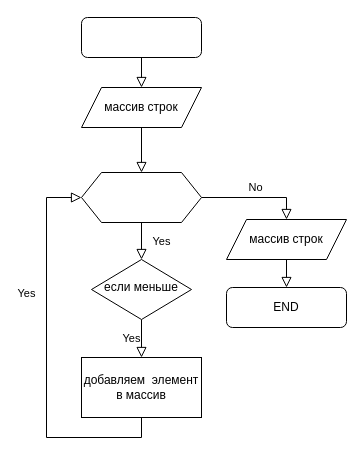
Some shapes in this 364 by 465 pixel diagram are drawn without their labels. Each missing label, with the box of its shape:
START: (80, 16, 202, 58)
для каждого элемента: (80, 172, 202, 222)
